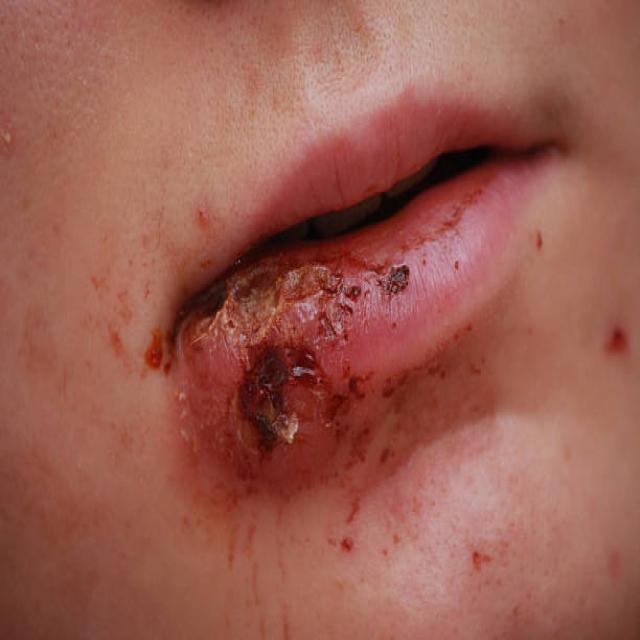processing_area: (118, 61, 639, 541)
ulcer-detection: (168, 240, 438, 509)
